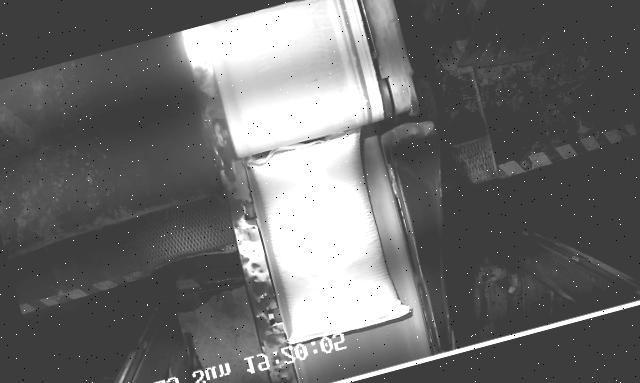bag: (239, 126, 412, 346)
